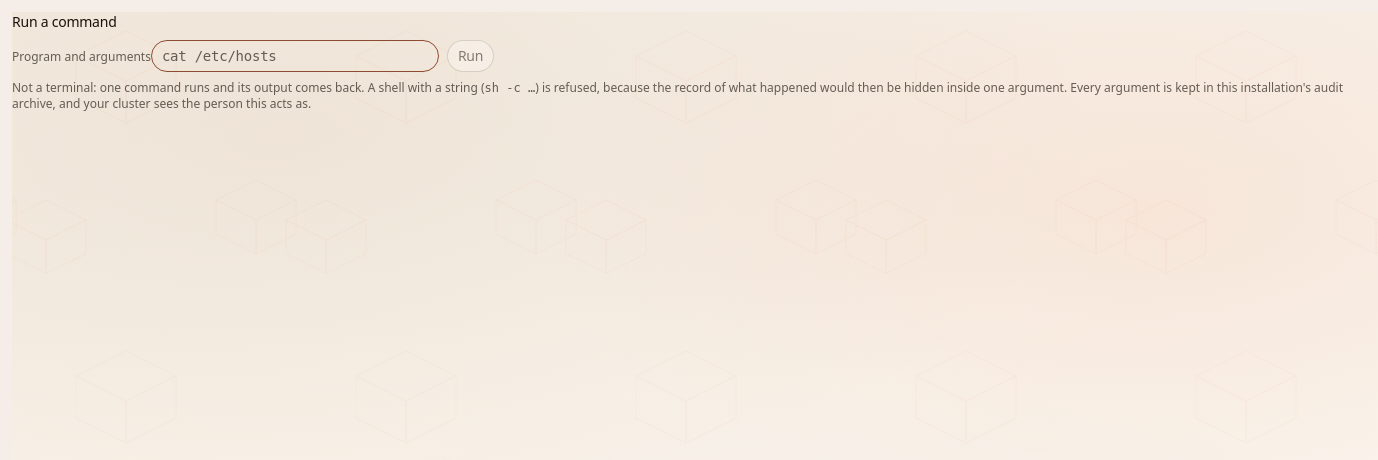
Test case: running a command › says who the cluster saw run it
The width and height of the screenshot is (1378, 460).
Type "id" into the field labelled "Program and arguments".
click(295, 56); type("id")  # box [151,40,439,72]
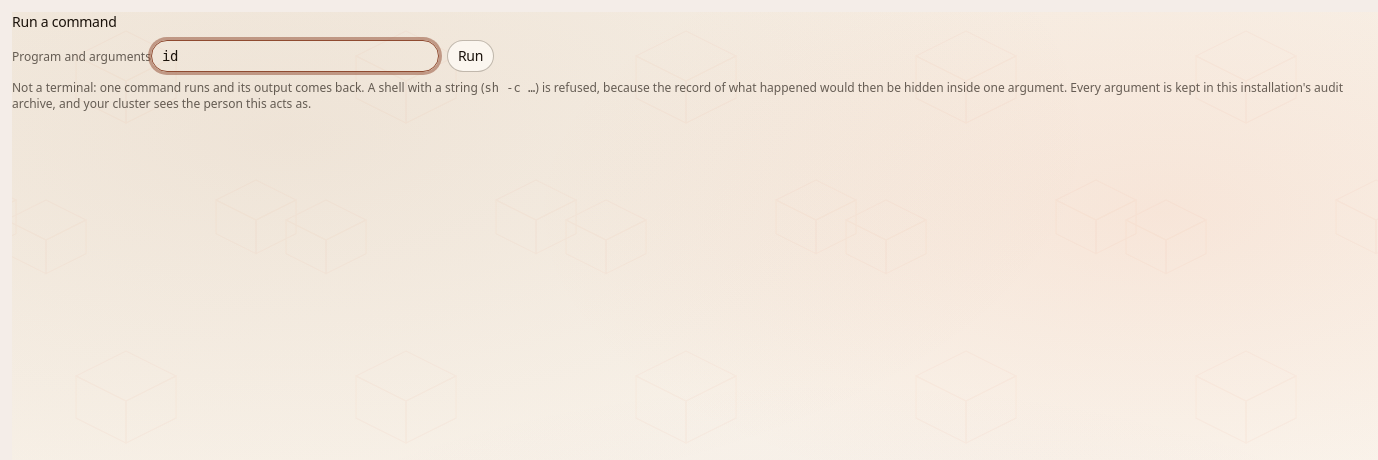
Click the button "Run".
click(471, 56)  # box [447,40,494,72]
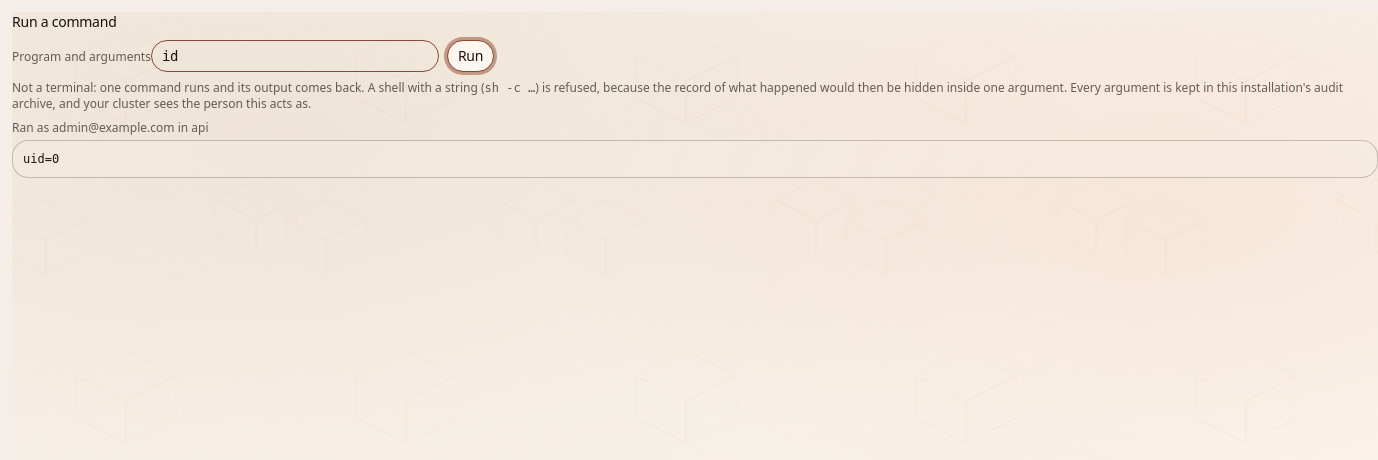
Expected: the message shows "Ran as admin@example.com", [12,120,1377,178]
